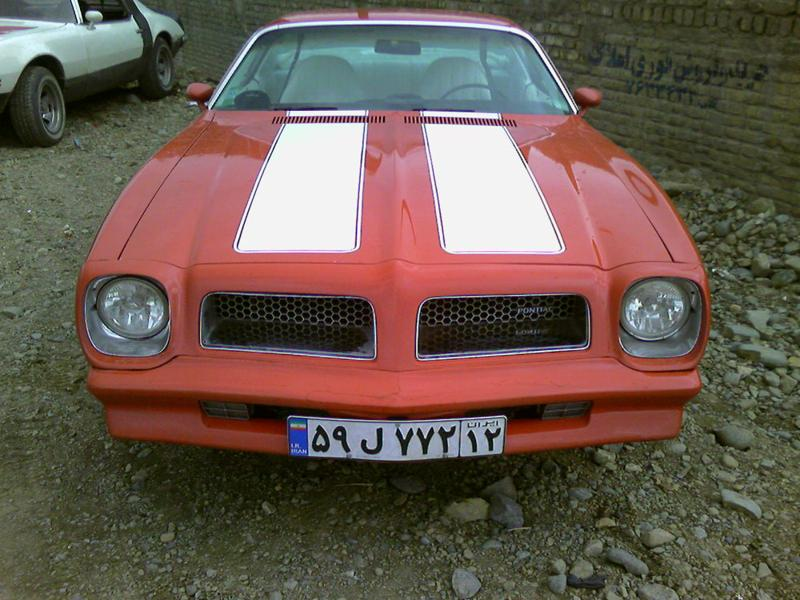Plate: (288, 416, 502, 456)
